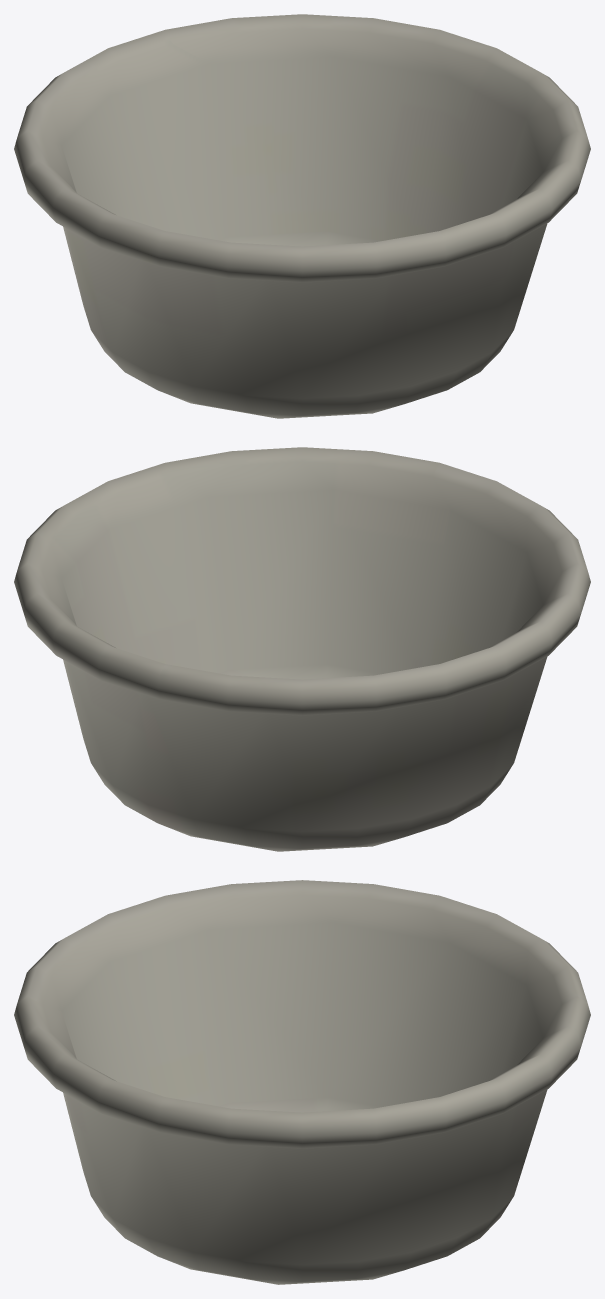
The picture shows the model from 3 angles, top to bottom: view 1: azimuth 30°, elevation 25°; view 2: azimuth 150°, elevation 25°; view 3: azimuth 270°, elevation 25°; orthographic projection.
Size of the model in its own units: 5.92 by 2.39 by 5.92.
2 materials, 2 textured.
